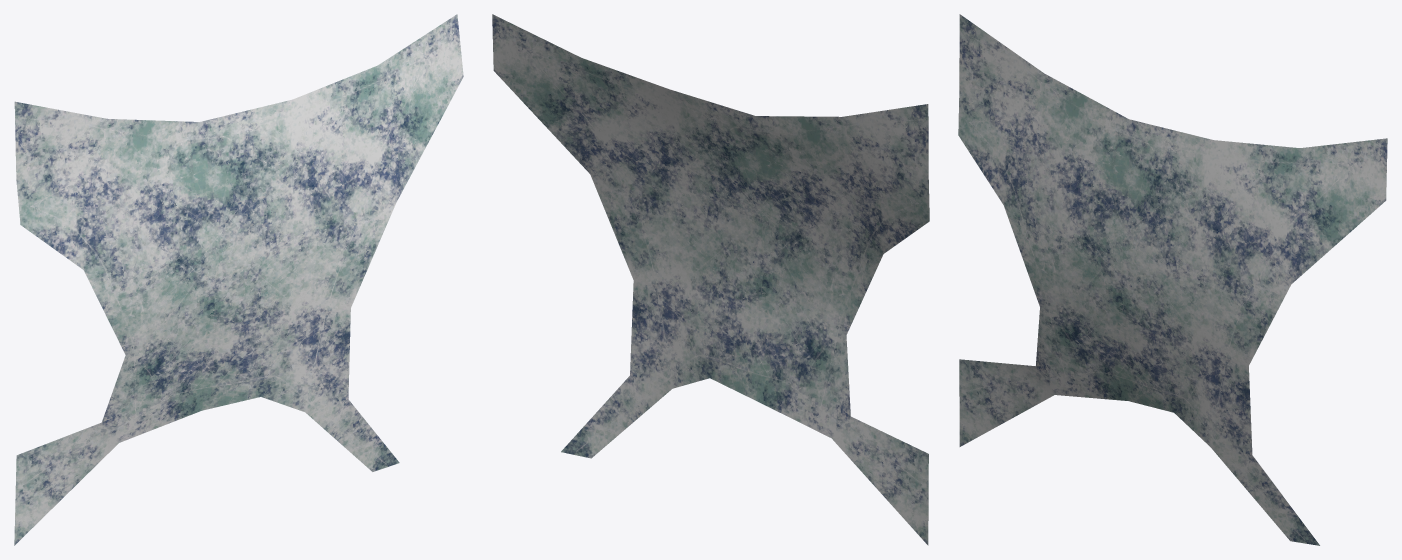
Rendered from SpiderWeb2.fbx.
3 views of the same model, side by side, from view 1: azimuth 30°, elevation 25°; view 2: azimuth 150°, elevation 25°; view 3: azimuth 330°, elevation 25° (orthographic). The views are drawn at different scales.
Visible parts, largest first — view 1: SM_a_005_natagumo_spiderweb_01a; view 2: SM_a_005_natagumo_spiderweb_01a; view 3: SM_a_005_natagumo_spiderweb_01a.
Part boxes in pixels (x1,y1,x2,y2): SM_a_005_natagumo_spiderweb_01a: [14, 14, 463, 545]; SM_a_005_natagumo_spiderweb_01a: [492, 14, 929, 545]; SM_a_005_natagumo_spiderweb_01a: [958, 14, 1387, 545].
Bounding box in the file's own units: 844 × 816 × 69.08.
